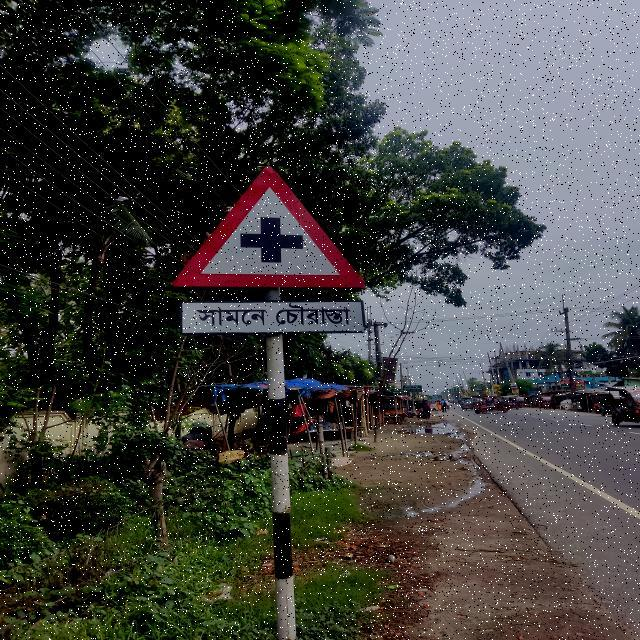Crossroads-ahead: (167, 168, 368, 348)
